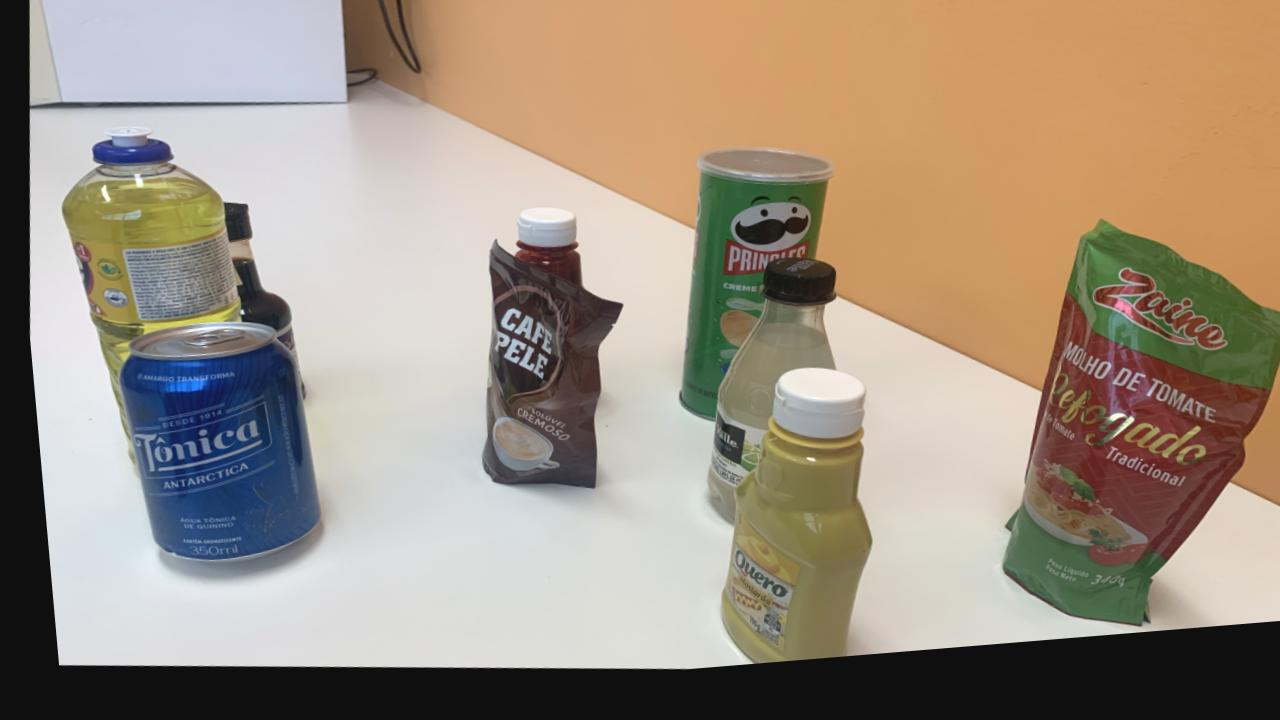Coffee-Pantry_Items: (472, 249, 615, 497)
Detergent-Cleanup_Items: (58, 130, 234, 406)
English_Sauce-Pantry_Items: (218, 205, 289, 361)
Ketchup-Pantry_Items: (508, 216, 576, 296)
Mustard-Pantry_Items: (710, 380, 859, 675)
Pringles-Snacks: (671, 159, 828, 431)
Soda-Drinks: (697, 271, 829, 533)
Tomato_Sauce-Pantry_Items: (991, 239, 1276, 644)
Tonic-Drinks: (112, 325, 311, 564)
